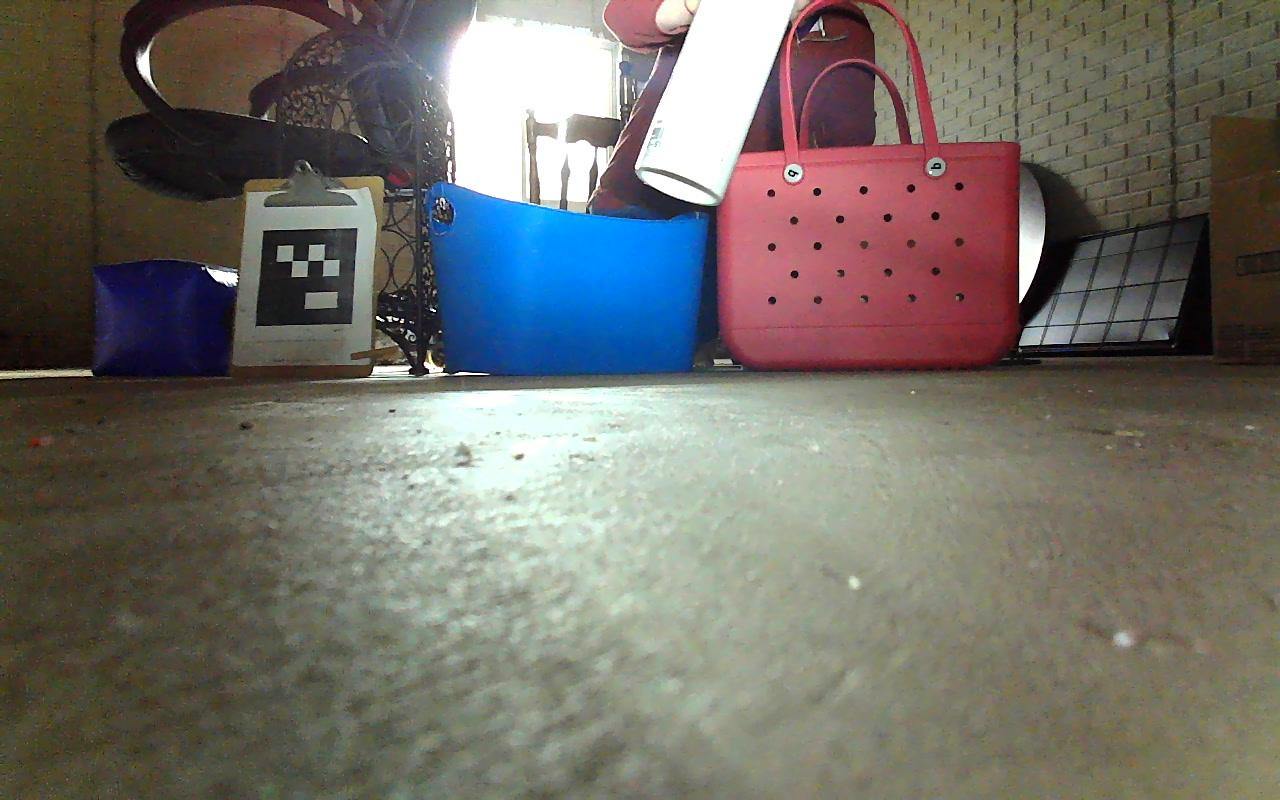coral: (633, 0, 798, 207)
